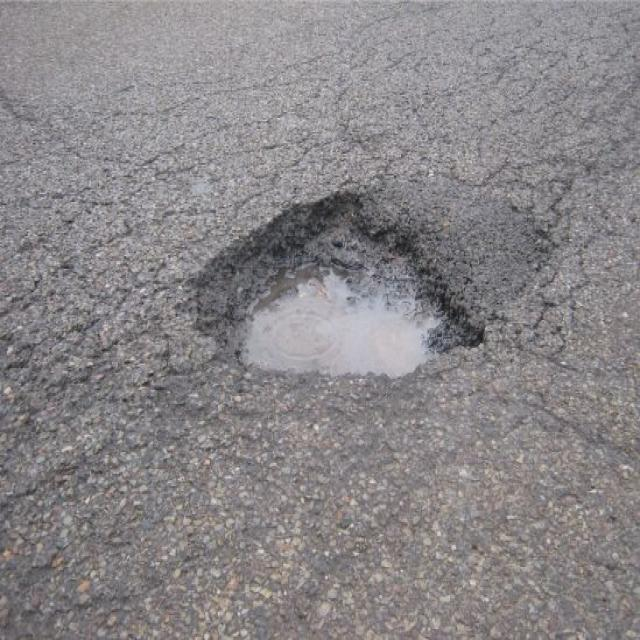Pothole: (177, 183, 490, 376)
